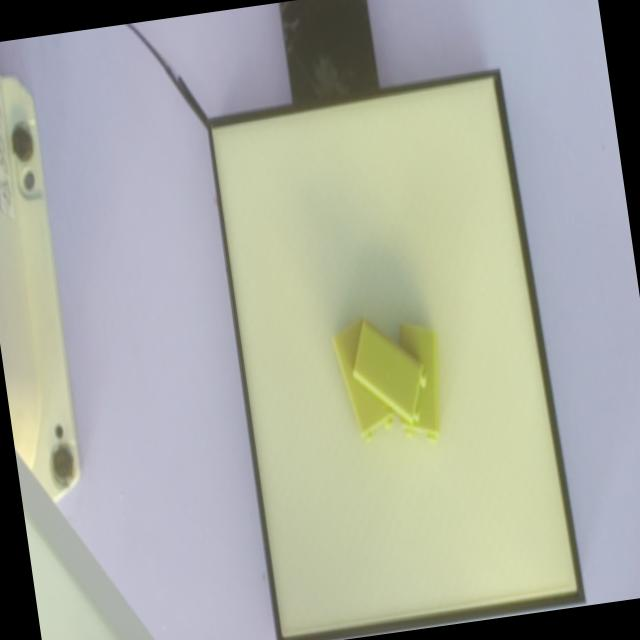bateria: (352, 318, 428, 423)
mesa: (205, 67, 586, 640)
